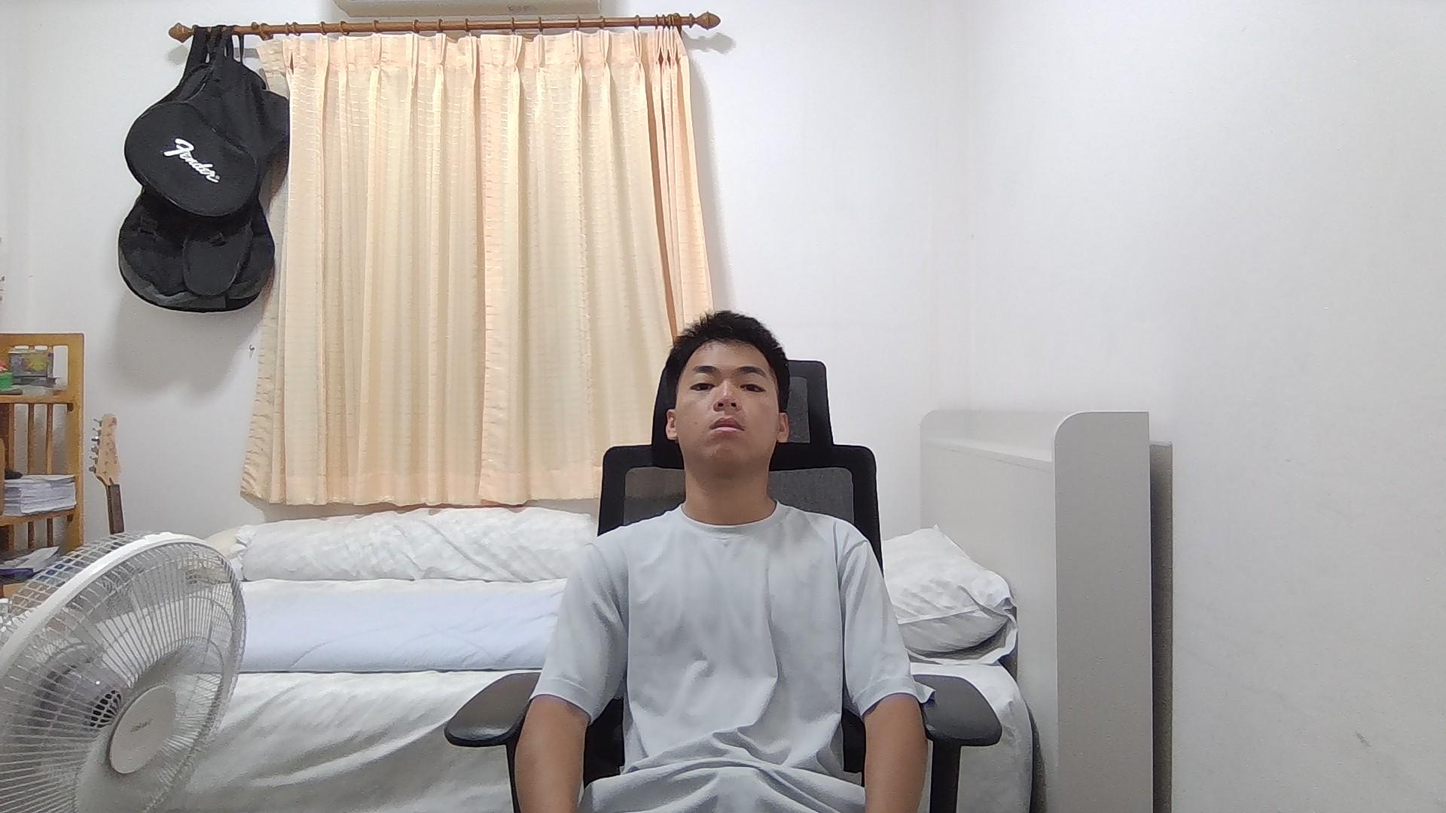BadPosture: (516, 312, 931, 812)
